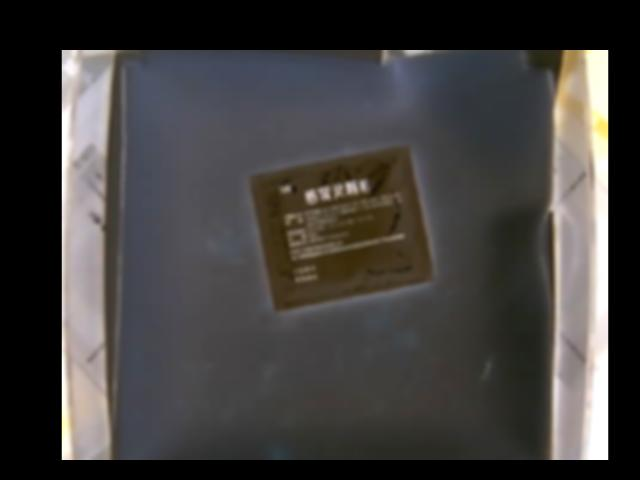Medicine: (243, 148, 434, 317)
